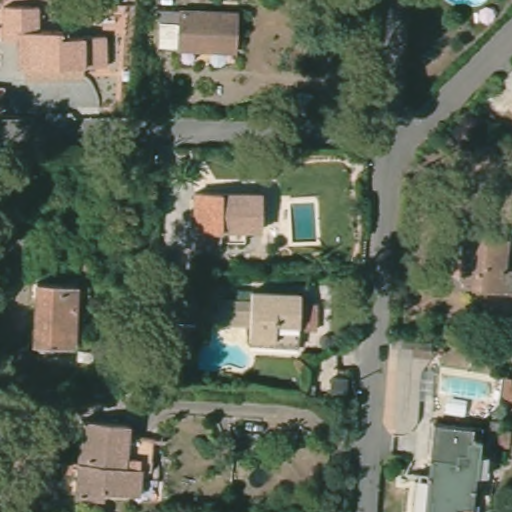pool: (195, 336, 255, 375), (435, 368, 498, 405), (282, 197, 322, 244)
